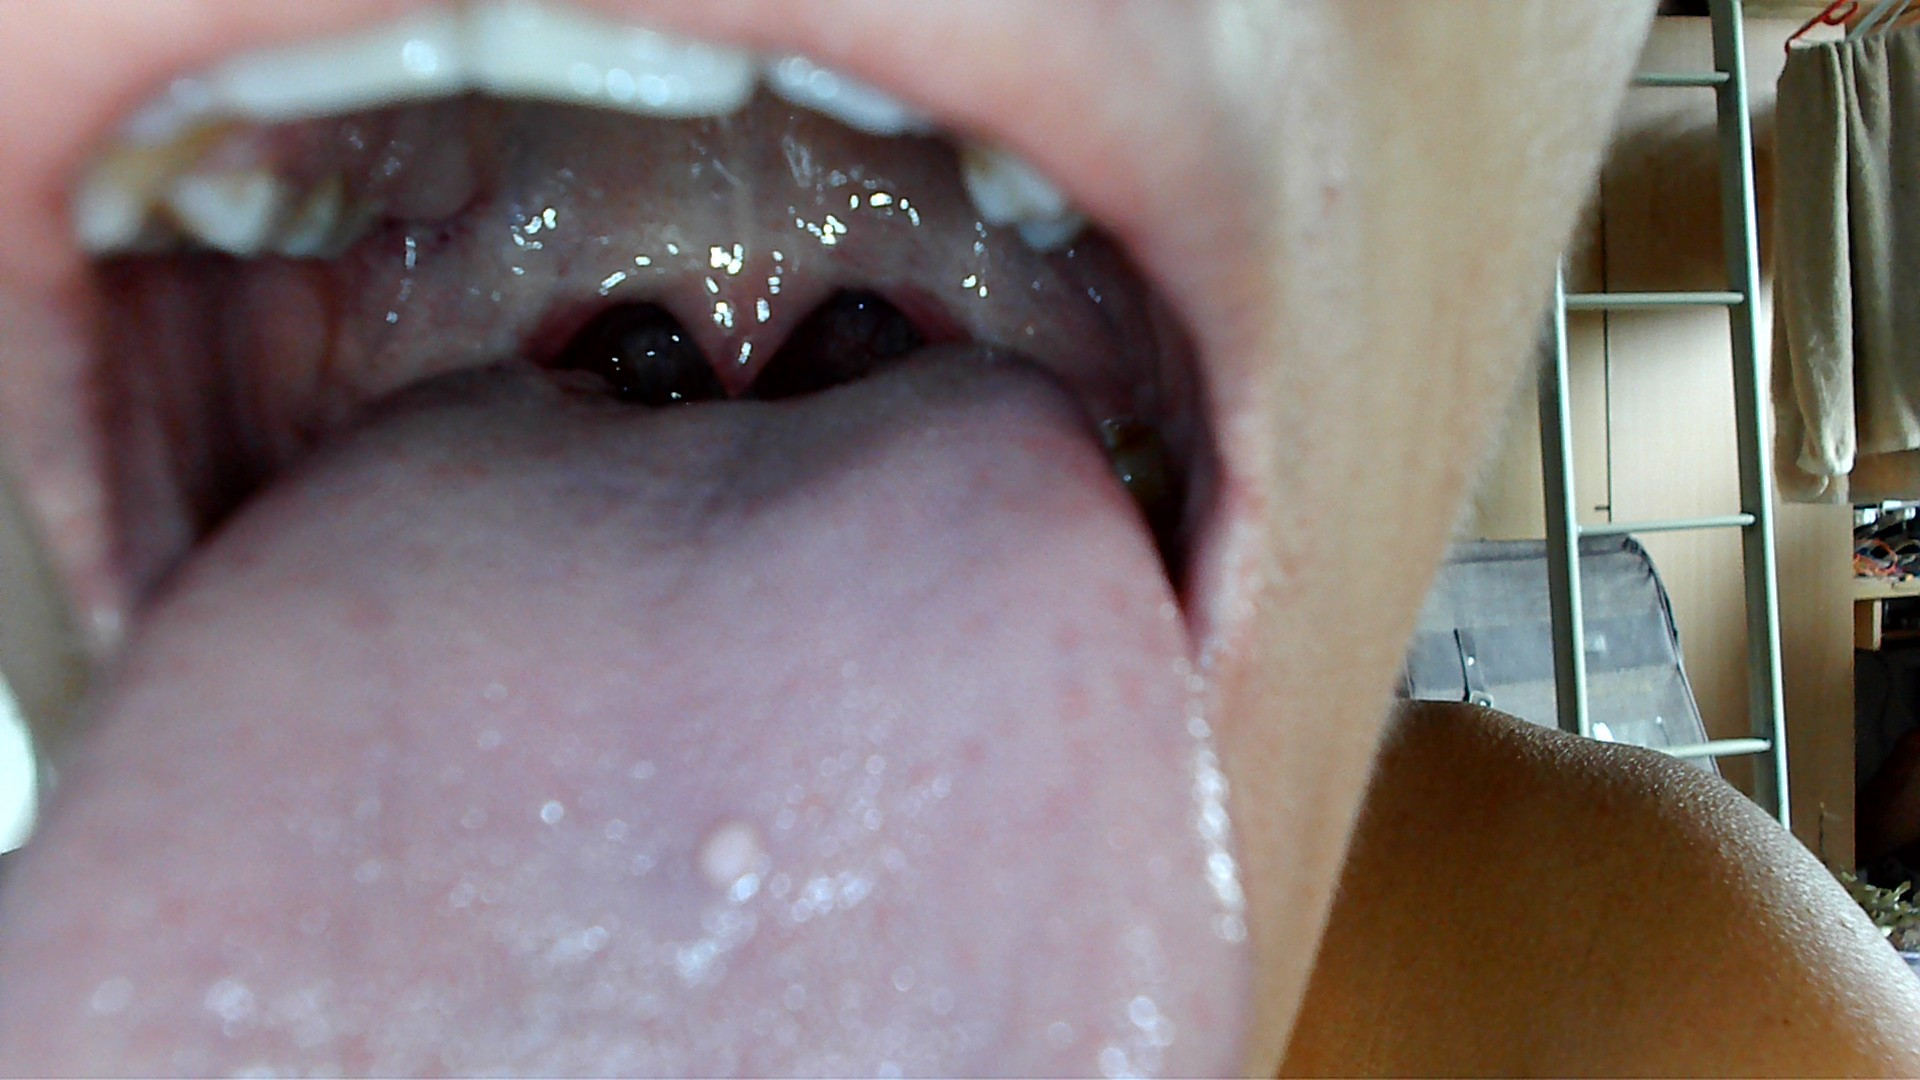throat: (371, 268, 589, 368), (874, 232, 1022, 356)
